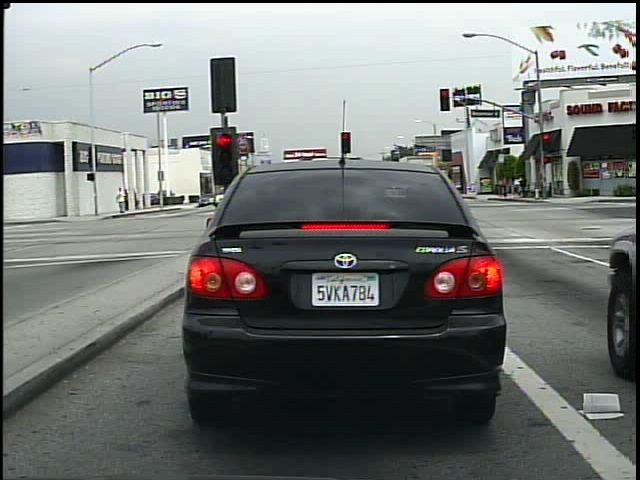person: (116, 186, 129, 217), (517, 173, 530, 199)
